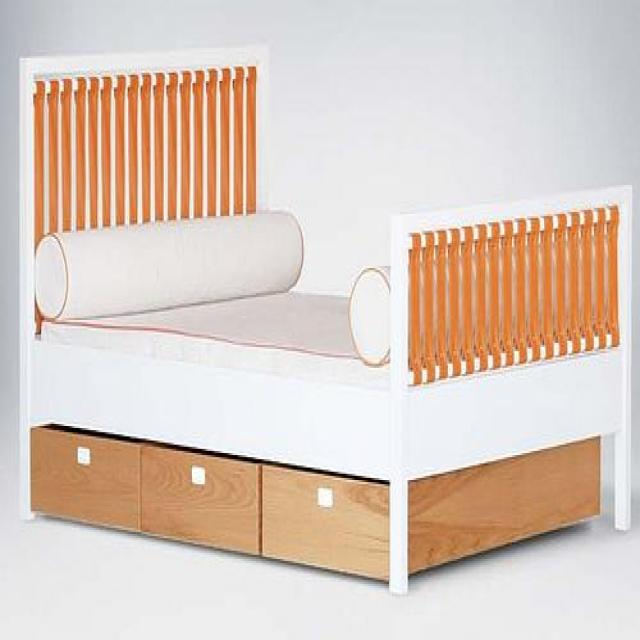bed: (18, 56, 632, 594)
